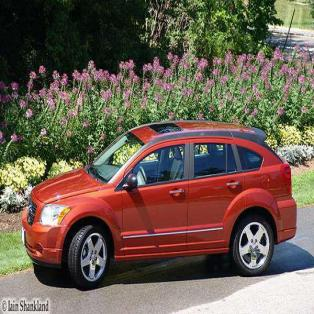Auto: (23, 123, 296, 290)
